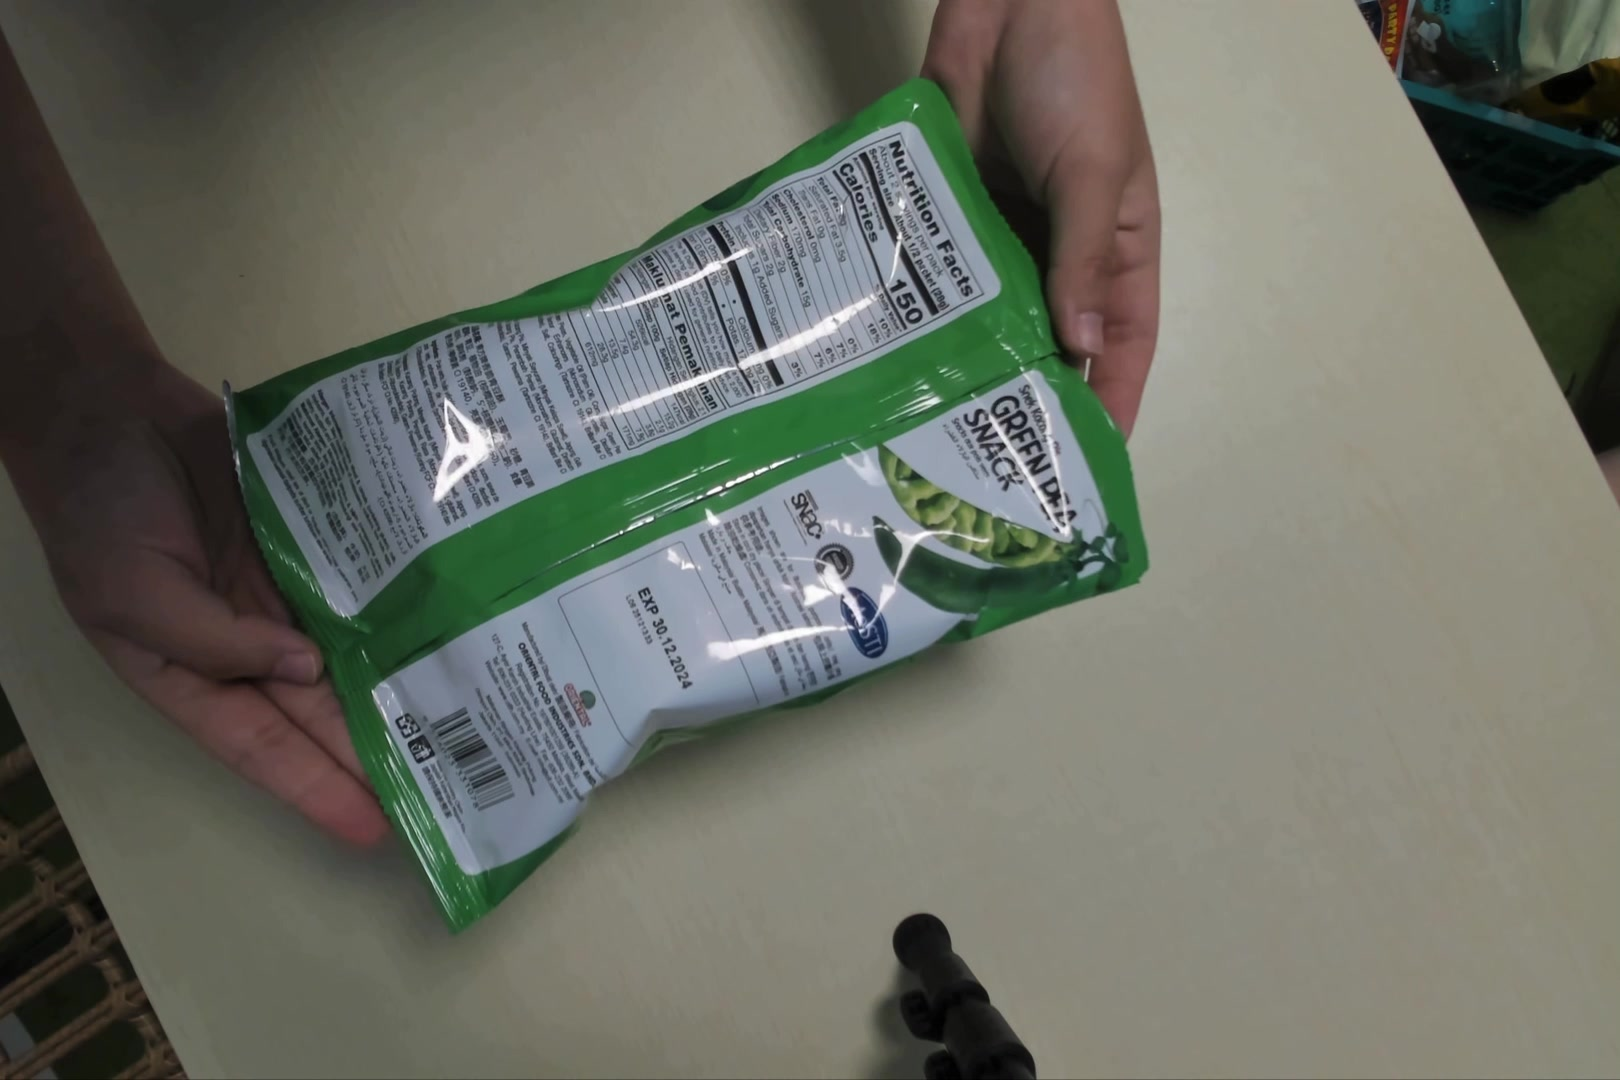Nuts_100-199g_Halal_NonHealthy: (218, 108, 1135, 905)
